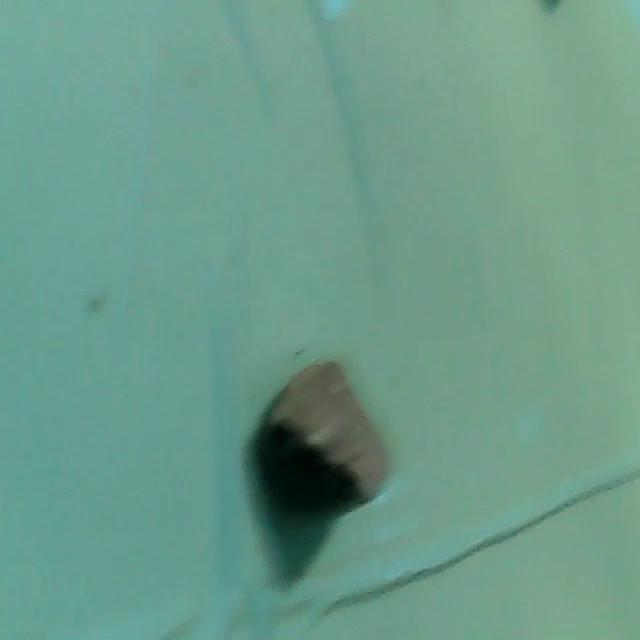rock: (249, 356, 395, 520)
